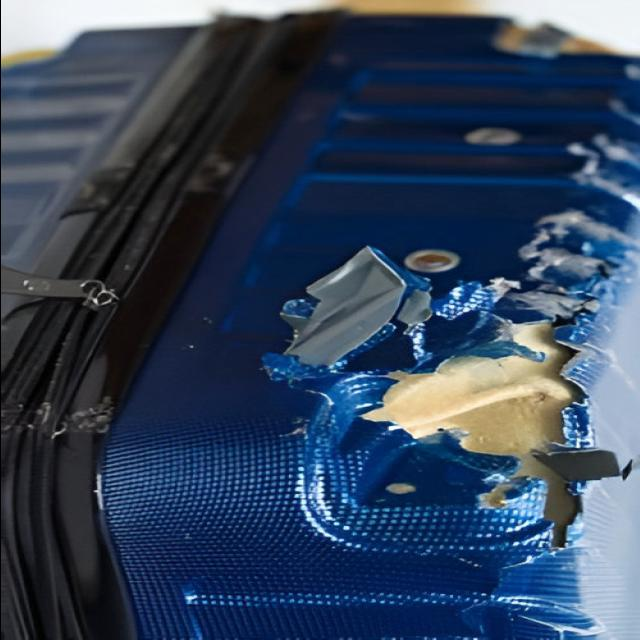Damage-bag: (265, 134, 638, 569), (493, 24, 613, 58), (516, 601, 605, 636), (54, 396, 114, 436)
